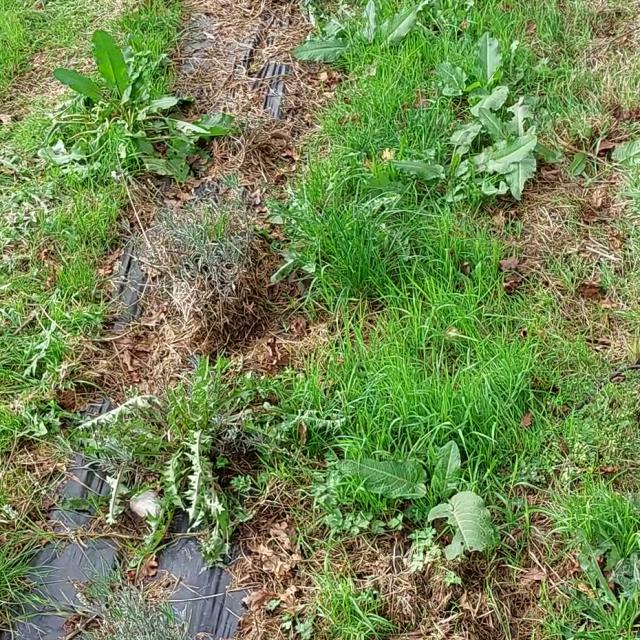organic waste: (324, 410, 525, 604), (6, 7, 231, 179), (378, 117, 557, 227), (284, 0, 477, 90), (422, 47, 553, 115)
